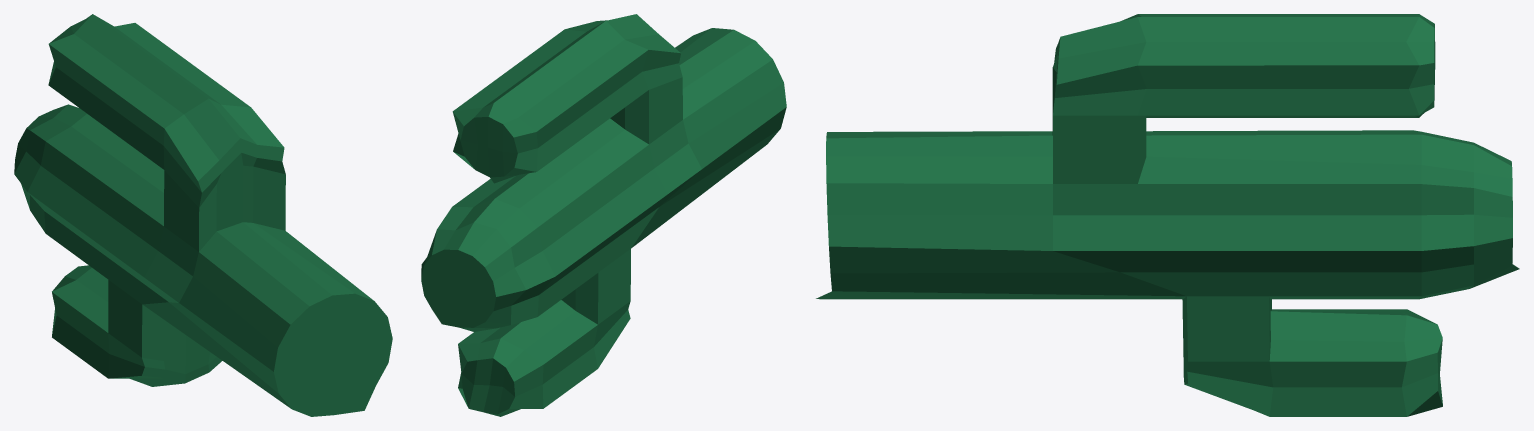
File: low_poly_cactus.fbx
3 views of the same model, side by side, from view 1: azimuth 30°, elevation 25°; view 2: azimuth 150°, elevation 25°; view 3: azimuth 270°, elevation 25° (orthographic). The views are drawn at different scales.
Visible parts, largest first — view 1: Cylinder; view 2: Cylinder; view 3: Cylinder.
Part boxes in pixels (box(x1,y1,x2,y2)): Cylinder: box(14, 14, 392, 416); Cylinder: box(421, 14, 786, 416); Cylinder: box(816, 14, 1519, 416).
Size of the model in its own units: 20 by 50.16 by 80.46.
